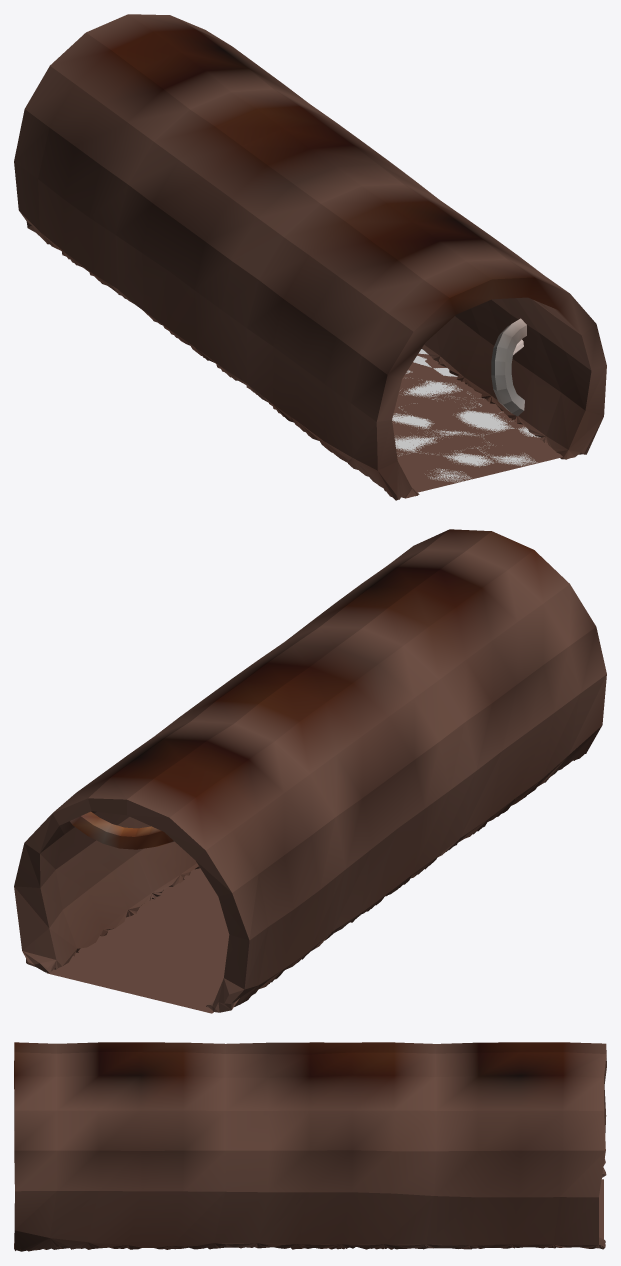
The model's file is Tunnel vierge(1).fbx.
3 views of the same model, one above another, from view 1: azimuth 30°, elevation 25°; view 2: azimuth 150°, elevation 25°; view 3: azimuth 270°, elevation 25° (orthographic). The views are drawn at different scales.
Visible parts, largest first — view 1: Plan 1, Cylindre, Plan, Tube; view 2: Plan 1, Cylindre, Tube; view 3: Plan 1, Cylindre.
Part boxes in pixels (x1=…): Plan 1: x1=14, y1=14, x2=606, y2=500; Cylindre: x1=15, y1=29, x2=606, y2=498; Plan: x1=392, y1=349, x2=540, y2=482; Tube: x1=491, y1=318, x2=526, y2=416; Plan 1: x1=14, y1=529, x2=606, y2=1013; Cylindre: x1=14, y1=529, x2=604, y2=1012; Tube: x1=70, y1=811, x2=174, y2=849; Plan 1: x1=14, y1=1042, x2=606, y2=1251; Cylindre: x1=14, y1=1042, x2=605, y2=1251.
Size of the model in its own units: 1.24 by 1 by 3.32.
